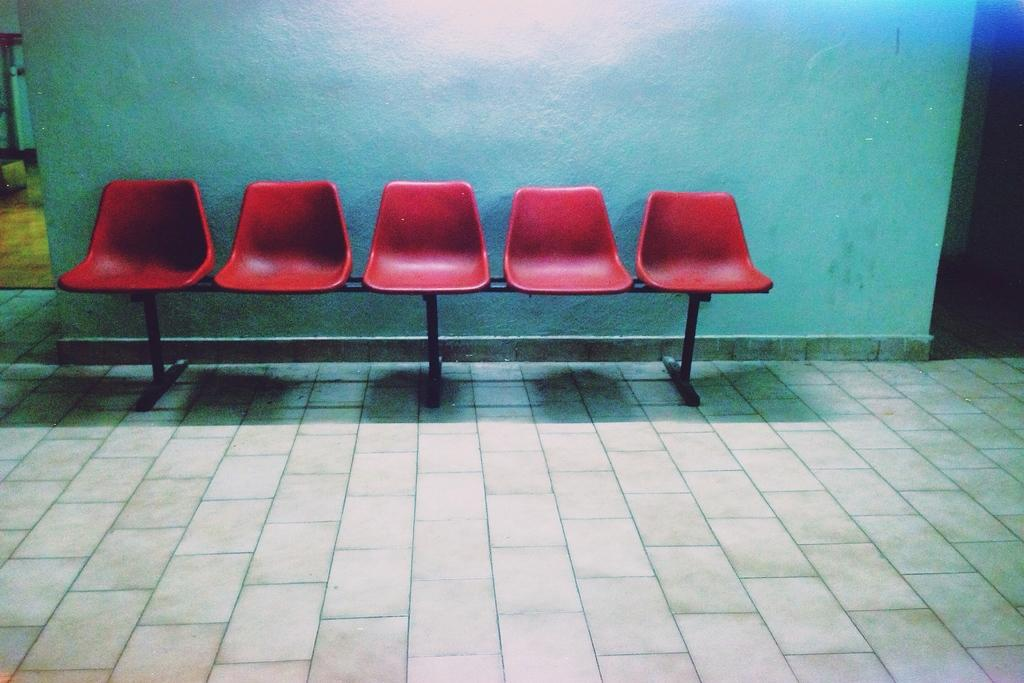Chair: (632, 182, 771, 407), (56, 176, 219, 298), (211, 177, 353, 295), (361, 180, 495, 298), (502, 183, 636, 297)
